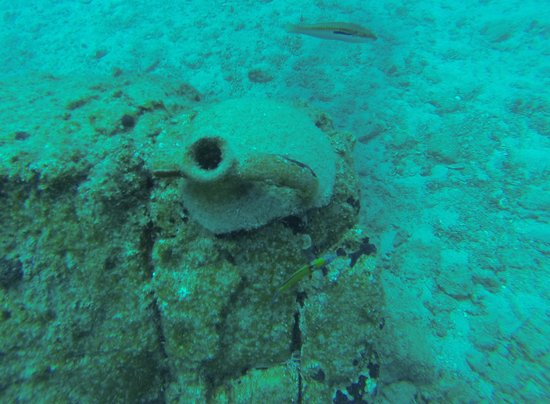amphora: (145, 99, 342, 236)
